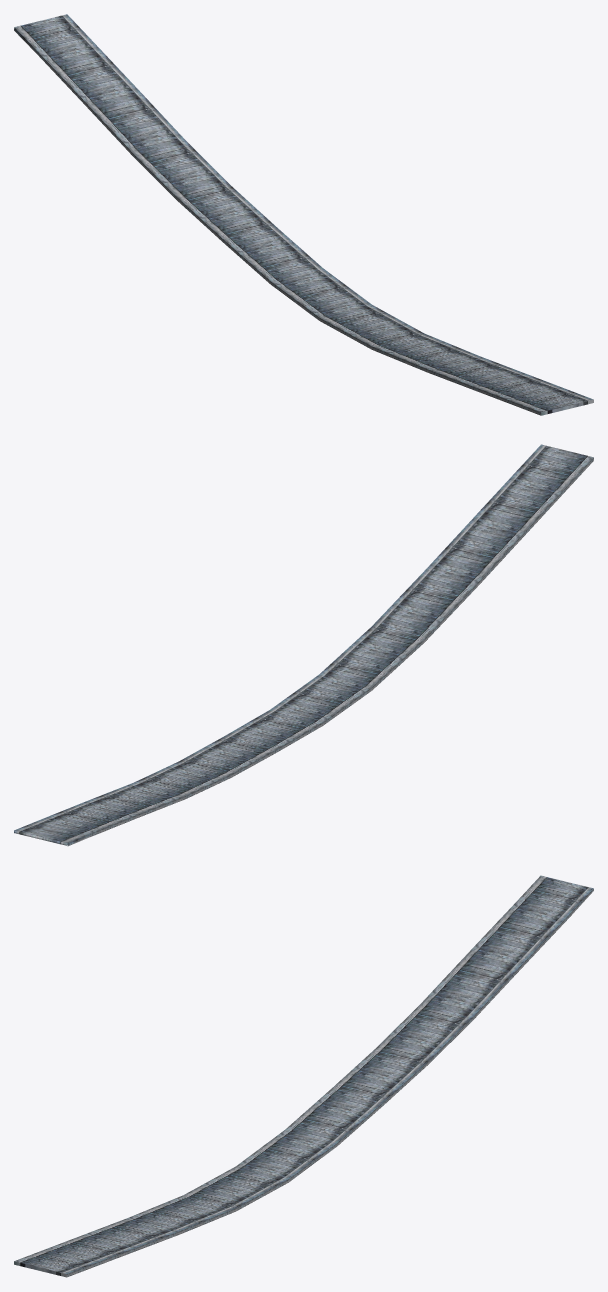
The picture shows the model from 3 angles, top to bottom: view 1: azimuth 30°, elevation 25°; view 2: azimuth 150°, elevation 25°; view 3: azimuth 330°, elevation 25°; orthographic projection.
Parts seen in each view (by area): view 1: b02; view 2: b02; view 3: b02.
Boxes of the visible parts, <box> form: b02: <box>14,14,593,415</box>; b02: <box>14,444,593,846</box>; b02: <box>14,875,593,1277</box>.
Size of the model in its own units: 126 by 159 by 2145.
